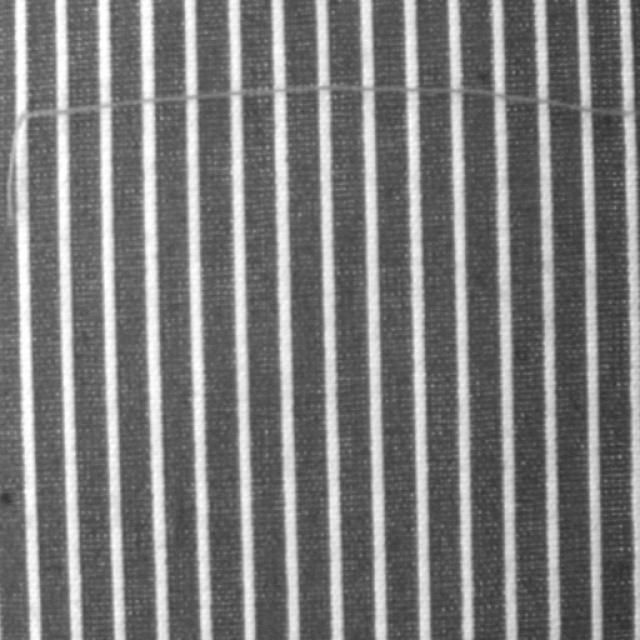Foreign-Body-Defect: (6, 82, 636, 219)
